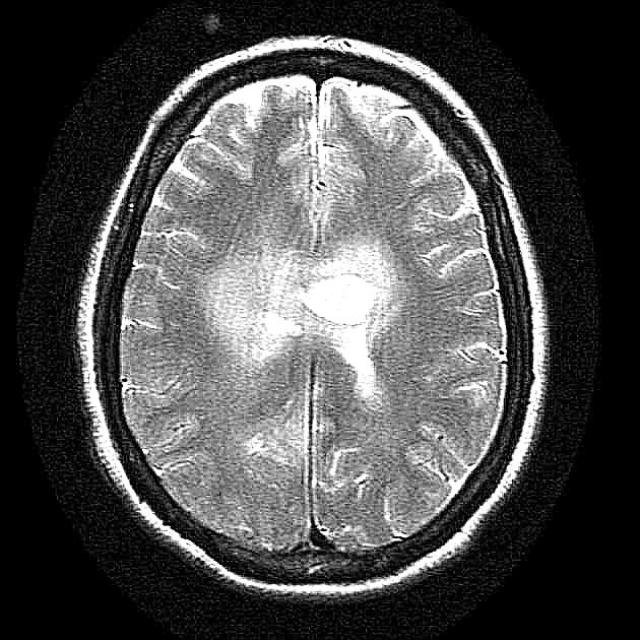Tumor-Cell: (234, 222, 420, 384)
